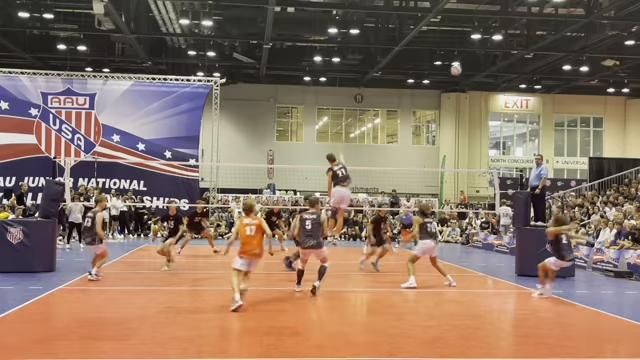attacco: (322, 146, 353, 241)
